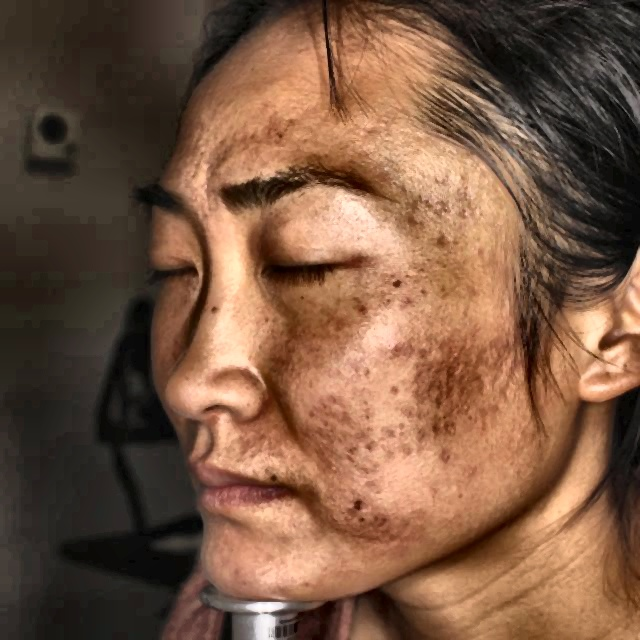pustule: (272, 58, 295, 82), (356, 440, 378, 462), (383, 337, 402, 360), (227, 564, 245, 586), (347, 493, 363, 512), (452, 169, 470, 185)
